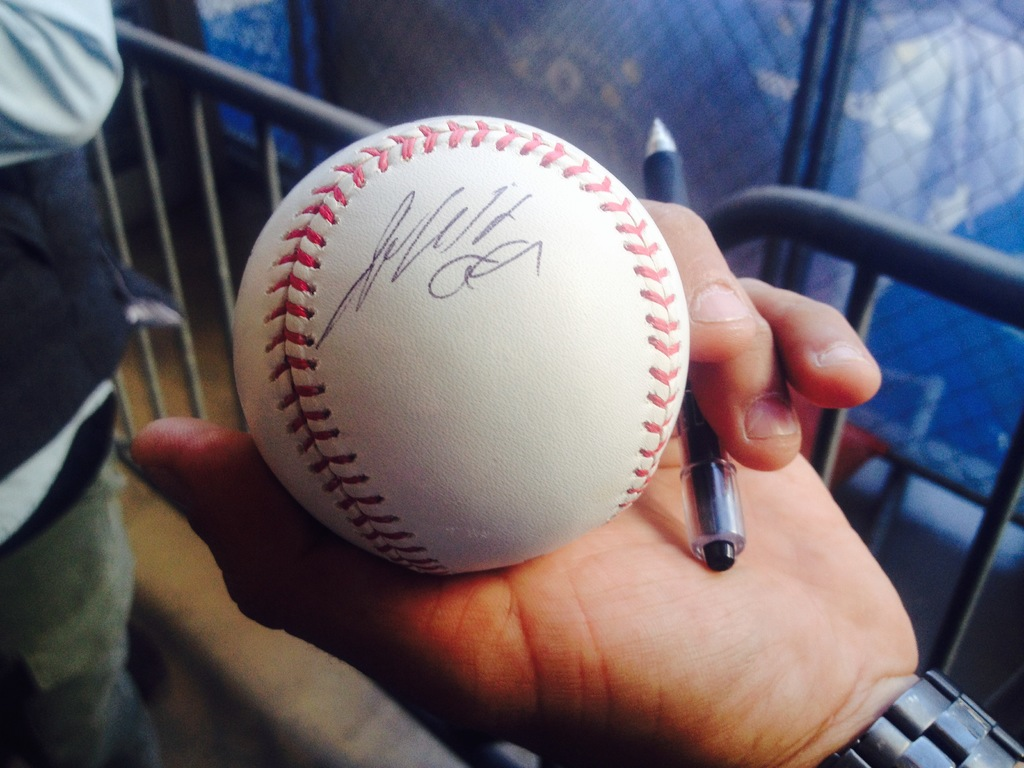Ball: (228, 114, 687, 579)
